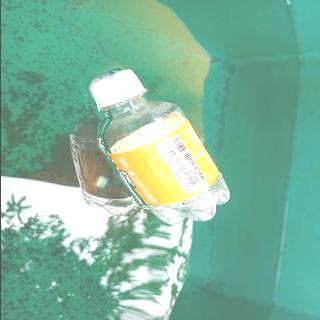bottle: (86, 67, 237, 228)
